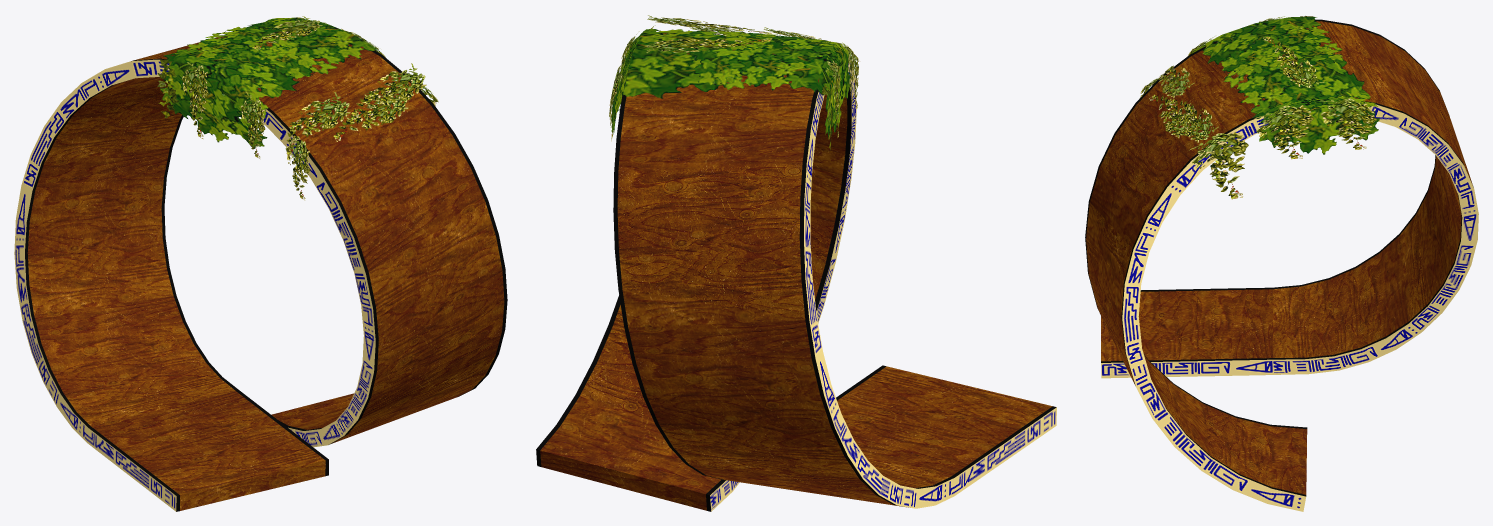
File: jungle_loop.gltf
The picture shows the model from 3 angles, left to right: view 1: azimuth 30°, elevation 25°; view 2: azimuth 150°, elevation 25°; view 3: azimuth 270°, elevation 25°; orthographic projection. The views are drawn at different scales.
Visible parts, largest first — view 1: jungle_loop_glb; view 2: jungle_loop_glb; view 3: jungle_loop_glb.
Boxes of the visible parts, x1,y1,x2,y2 form: jungle_loop_glb: (14, 16, 507, 511); jungle_loop_glb: (536, 15, 1056, 511); jungle_loop_glb: (1085, 16, 1478, 511).
Size of what is drawn, in the model's own units: 4.87 by 5.43 by 4.93.
2 materials, 2 textured.
